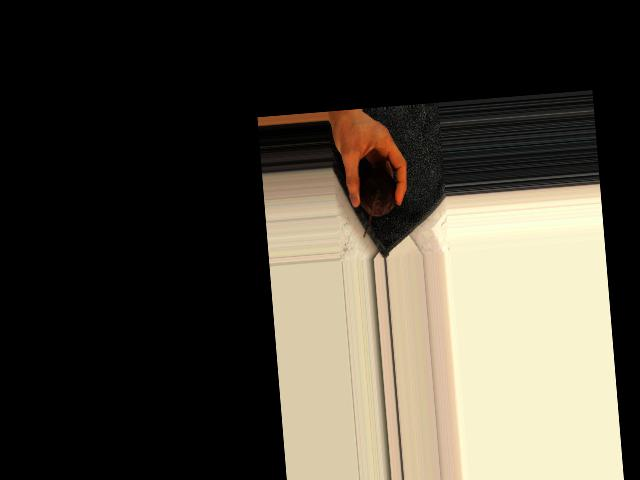beet: (357, 167, 399, 238)
